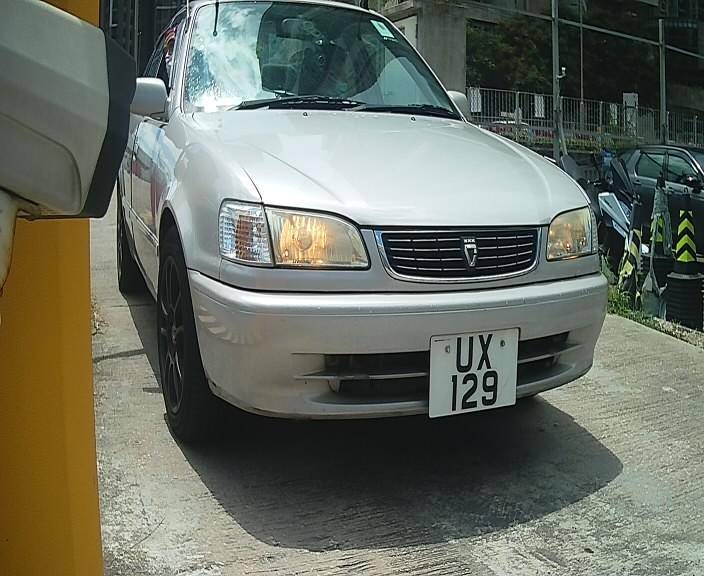License Plate: (419, 319, 525, 425)
